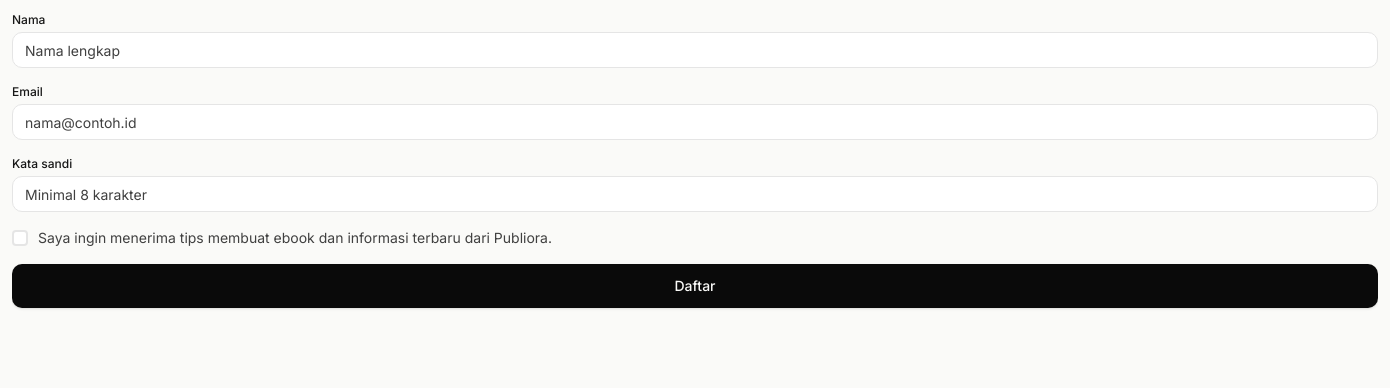
Test: RegisterForm › maps unknown backend details to generic actionable copy
Type "Nara Pustaka" into the field labelled "Nama". click: x=695, y=50
box: [12, 32, 1378, 68]
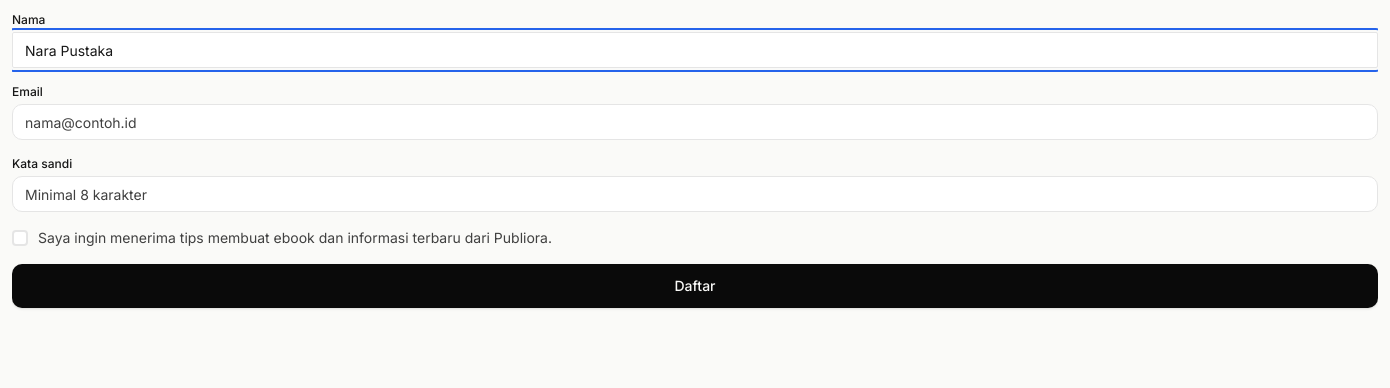
Type "nara@contoh.id" into the field labelled "Email". click: x=695, y=122
box: [12, 104, 1378, 140]
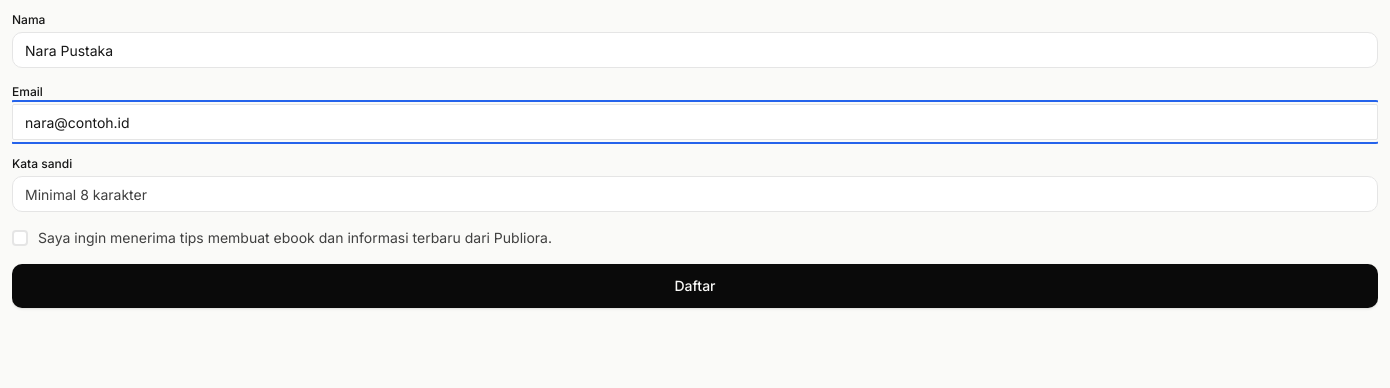
Type "rahasia123" into the password field labelled "Kata sandi". click: x=695, y=194
box: [12, 176, 1378, 212]
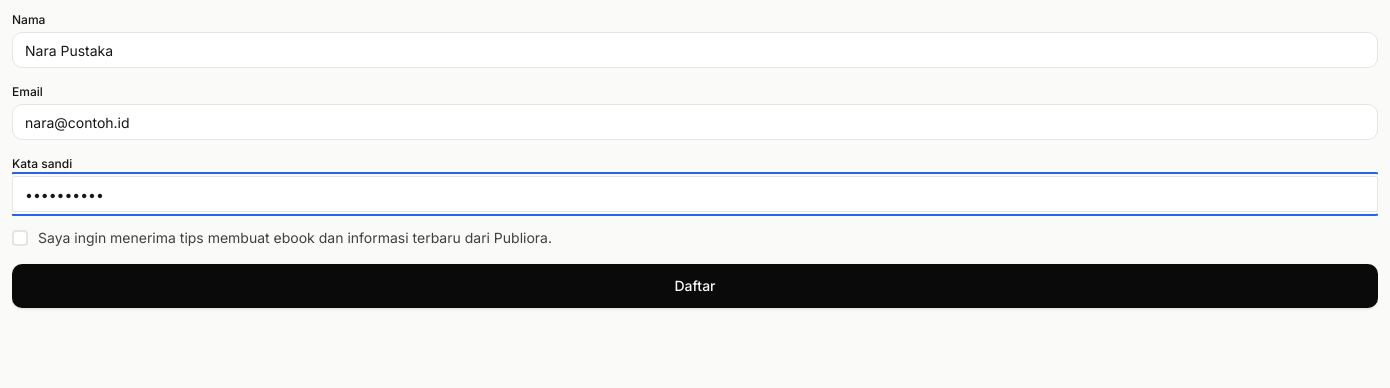
Click the button "Daftar". click: x=695, y=286
box: [12, 264, 1378, 308]
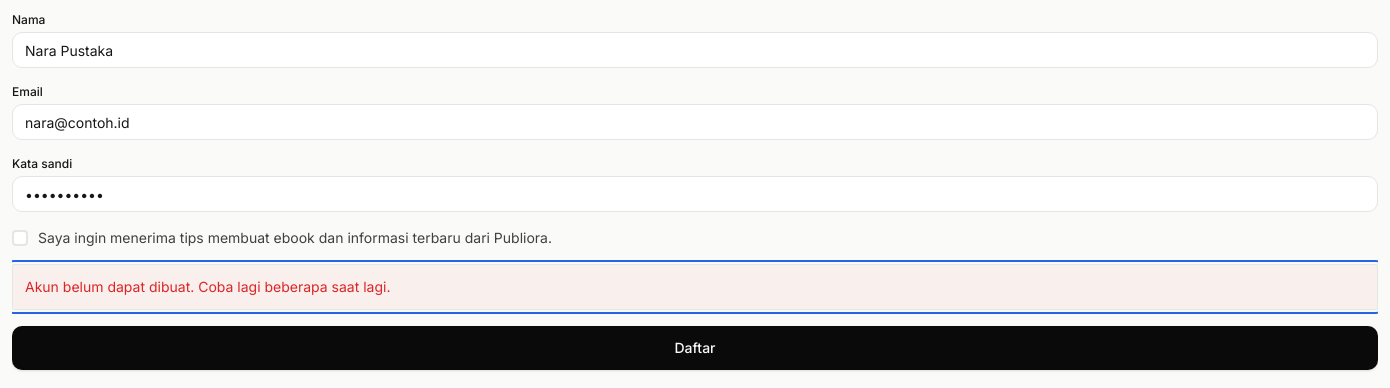
Now the message reads "Akun belum dapat dibuat. Coba lagi beberapa saat lagi.", box [25, 278, 390, 295]
